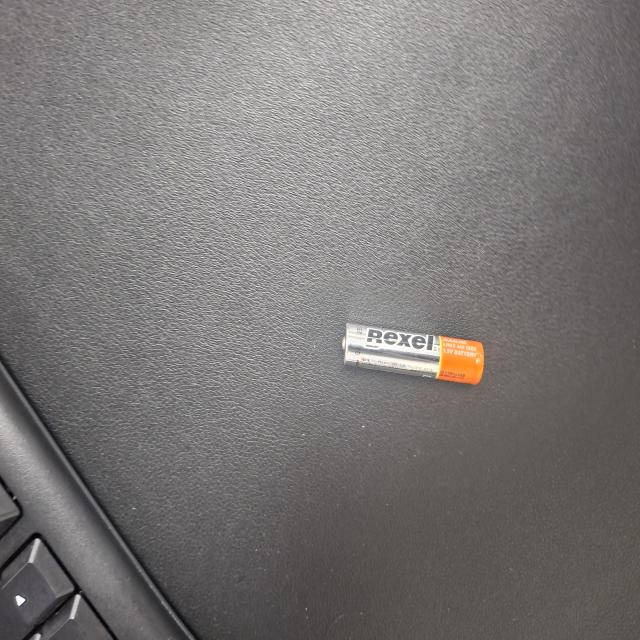AAA: (192, 457, 237, 640)
